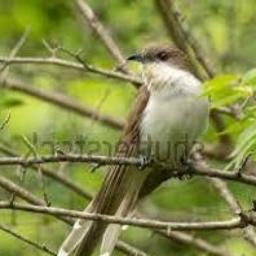Cuckoo: (56, 42, 208, 256)
